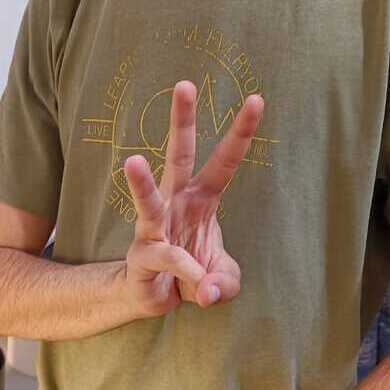W: (124, 81, 264, 319)
